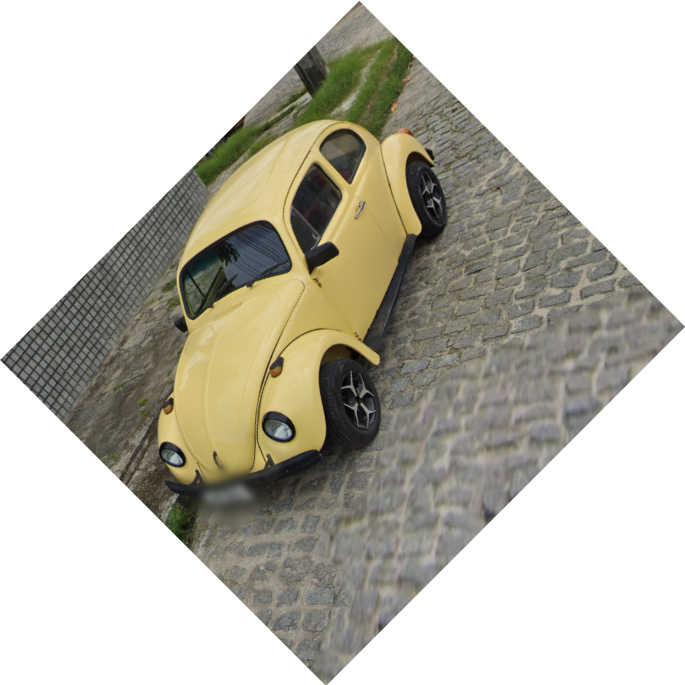car: (157, 116, 447, 512)
